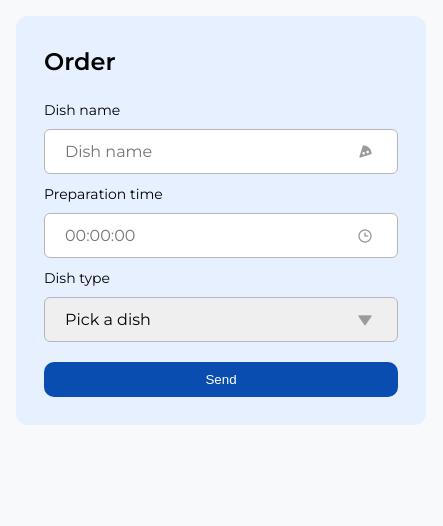
it: <Form /> › Dish type "sandwich" is selected › should render sandwich related inputs (bread slices)
The image size is (443, 526).
Select "Sandwich" in the dropdown at (221,320), box [44,297,398,342]
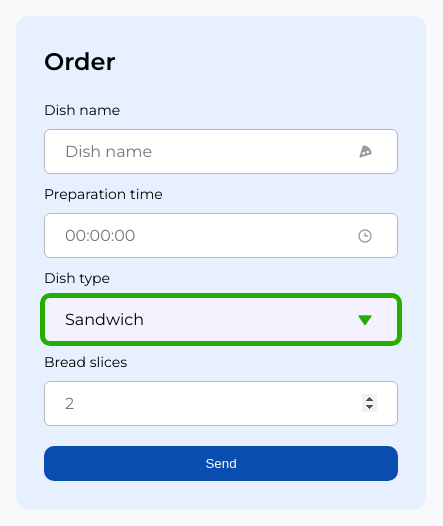
Now the number field labelled "Bread slices" is shown, box [44,381,398,426]
